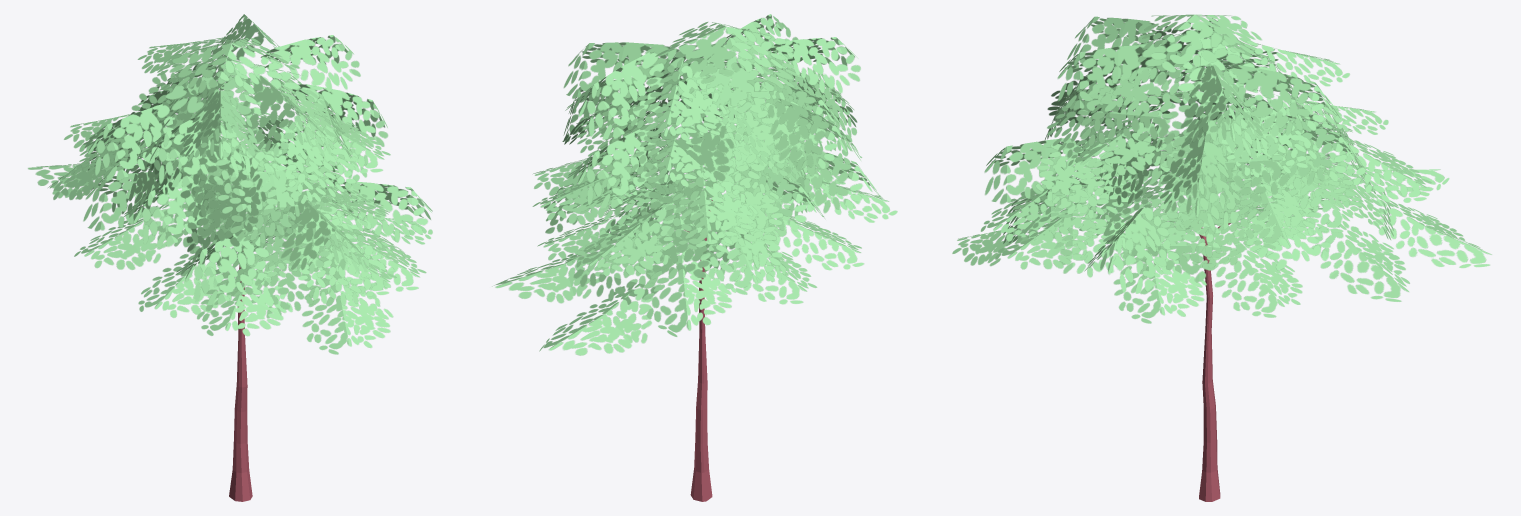
The model's file is TREE.glb.
The picture shows the model from 3 angles, left to right: view 1: azimuth 30°, elevation 25°; view 2: azimuth 150°, elevation 25°; view 3: azimuth 270°, elevation 25°; orthographic projection. The views are drawn at different scales.
Visible parts, largest first — view 1: Cube.001; view 2: Cube.001; view 3: Cube.001.
Boxes of the visible parts, x1,y1,x2,y2 form: Cube.001: (28, 14, 432, 501); Cube.001: (492, 14, 897, 501); Cube.001: (952, 14, 1491, 501).
Size of the model in its own units: 53.92 by 71.19 by 77.79.
2 materials, 1 textured.
